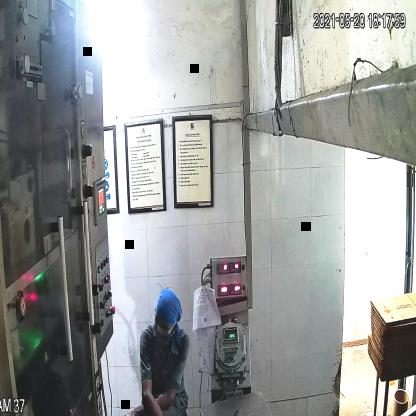goggles: (152, 311, 179, 340)
